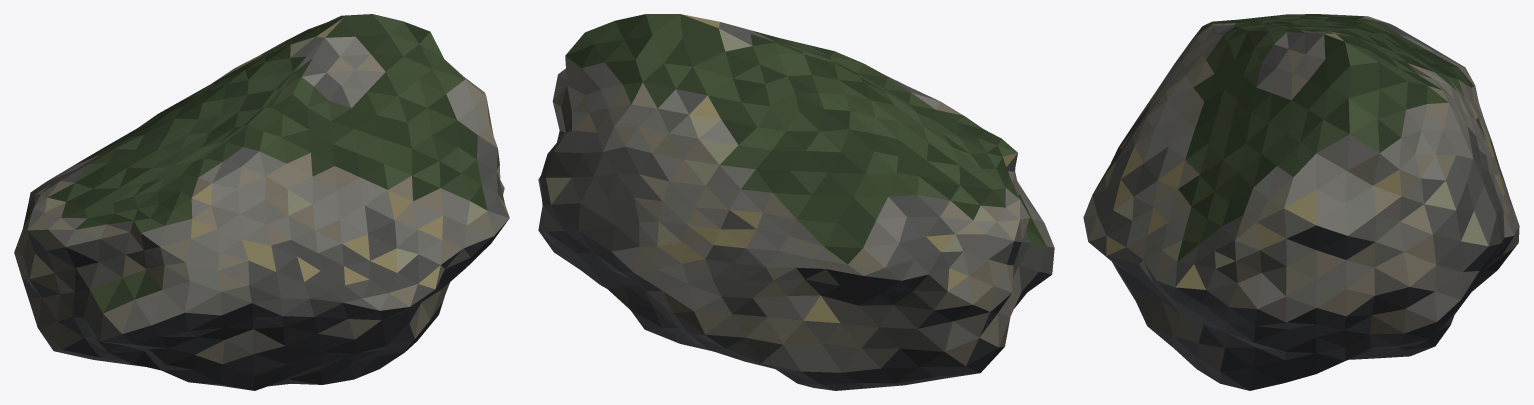
Rendered from rock-large.glb.
The picture shows the model from 3 angles, left to right: view 1: azimuth 30°, elevation 25°; view 2: azimuth 150°, elevation 25°; view 3: azimuth 270°, elevation 25°; orthographic projection. The views are drawn at different scales.
Parts seen in each view (by area): view 1: rock-large; view 2: rock-large; view 3: rock-large.
Part boxes in pixels (x1,y1,x2,y2): rock-large: [14, 14, 509, 390]; rock-large: [538, 14, 1054, 390]; rock-large: [1083, 14, 1519, 390].
Size of the model in its own units: 2.1 by 1.37 by 1.55.
